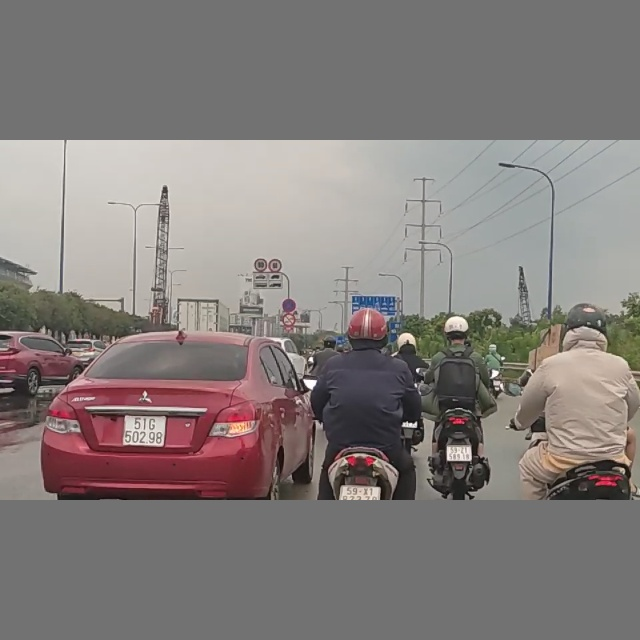P.130: (281, 298, 296, 312)
